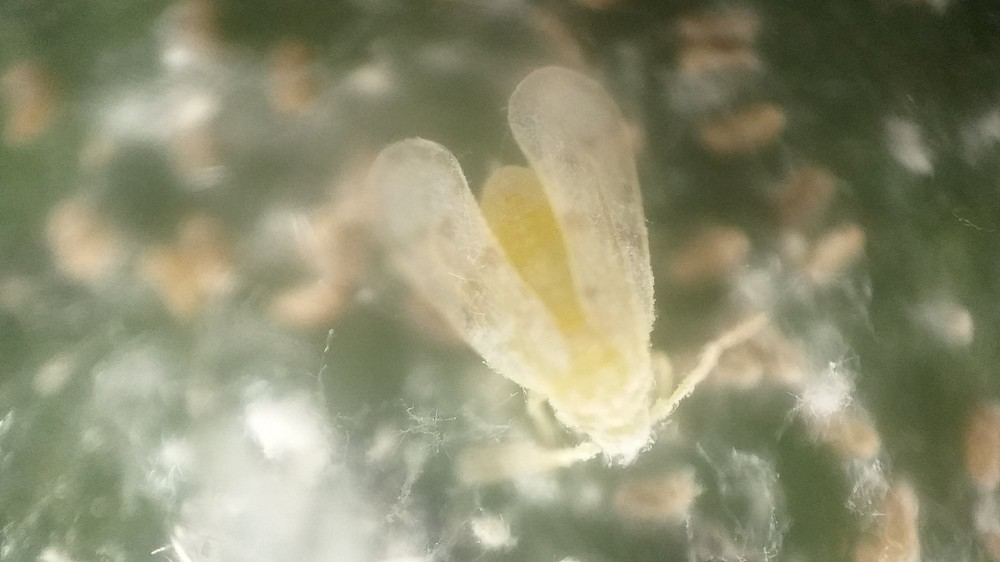Mosca Blanca: (342, 52, 773, 511)
